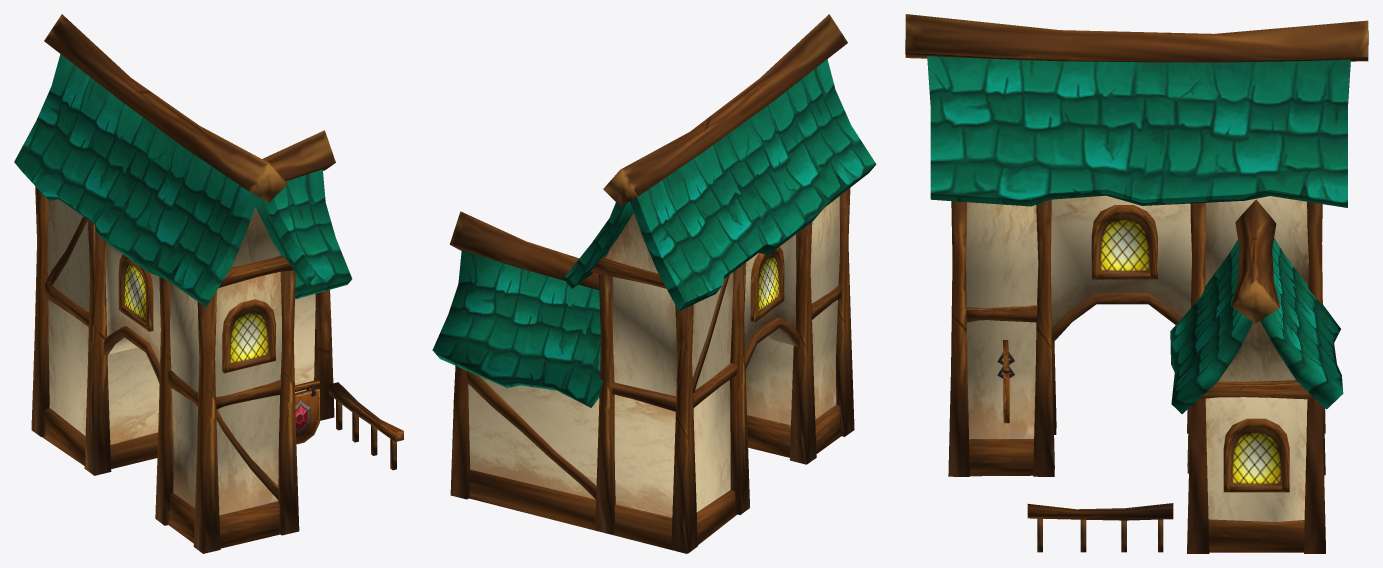
File: building_8_3.FBX
The picture shows the model from 3 angles, left to right: view 1: azimuth 30°, elevation 25°; view 2: azimuth 150°, elevation 25°; view 3: azimuth 270°, elevation 25°; orthographic projection. The views are drawn at different scales.
Parts seen in each view (by area): view 1: building_8_3; view 2: building_8_3; view 3: building_8_3.
Boxes of the visible parts, <box> form: building_8_3: <box>14,14,403,553</box>; building_8_3: <box>432,14,876,553</box>; building_8_3: <box>905,14,1368,553</box>.
Size of the model in its own units: 236 by 328 by 313.
